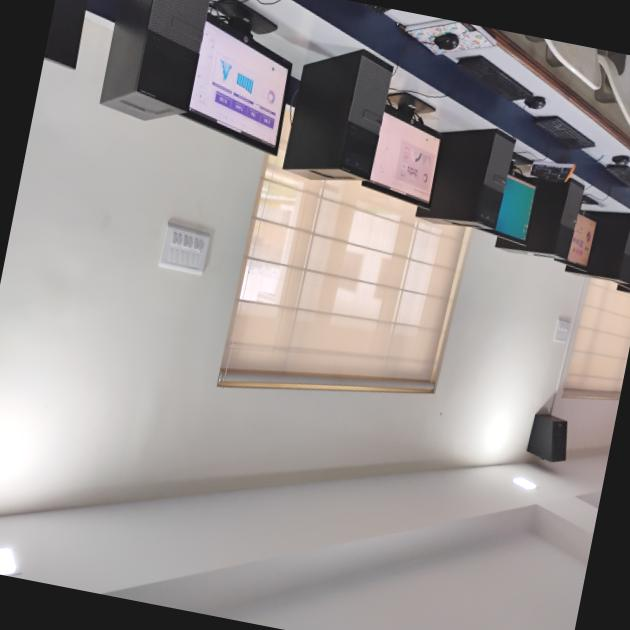computer: (183, 11, 304, 154), (488, 167, 542, 249)
cpu: (93, 0, 209, 124)
keyboard: (526, 112, 600, 158)
light: (0, 520, 30, 579)
mouse: (426, 20, 463, 56)
speaker: (504, 384, 579, 468)
windowscreen: (217, 158, 479, 416)
